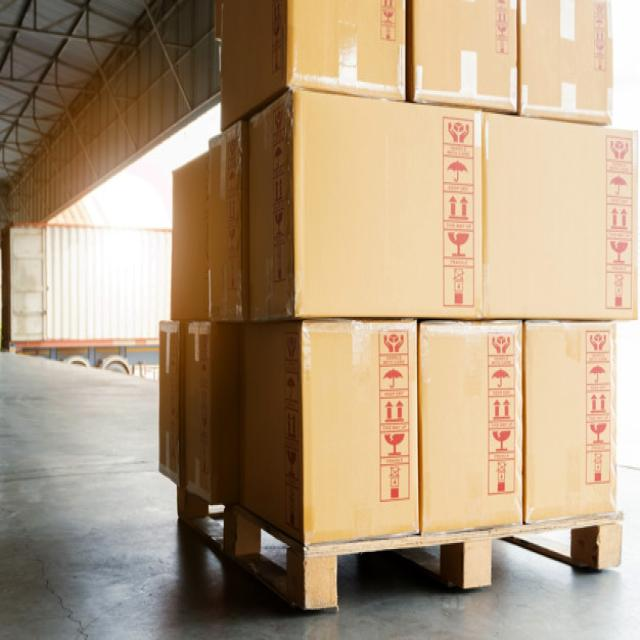Kardus kondisi bagus: (248, 97, 482, 322), (237, 322, 421, 544), (480, 112, 637, 321), (222, 1, 409, 130), (423, 322, 525, 535), (526, 320, 617, 527), (168, 127, 246, 328), (408, 1, 524, 112), (517, 1, 612, 126), (182, 321, 240, 507), (161, 321, 184, 484)
